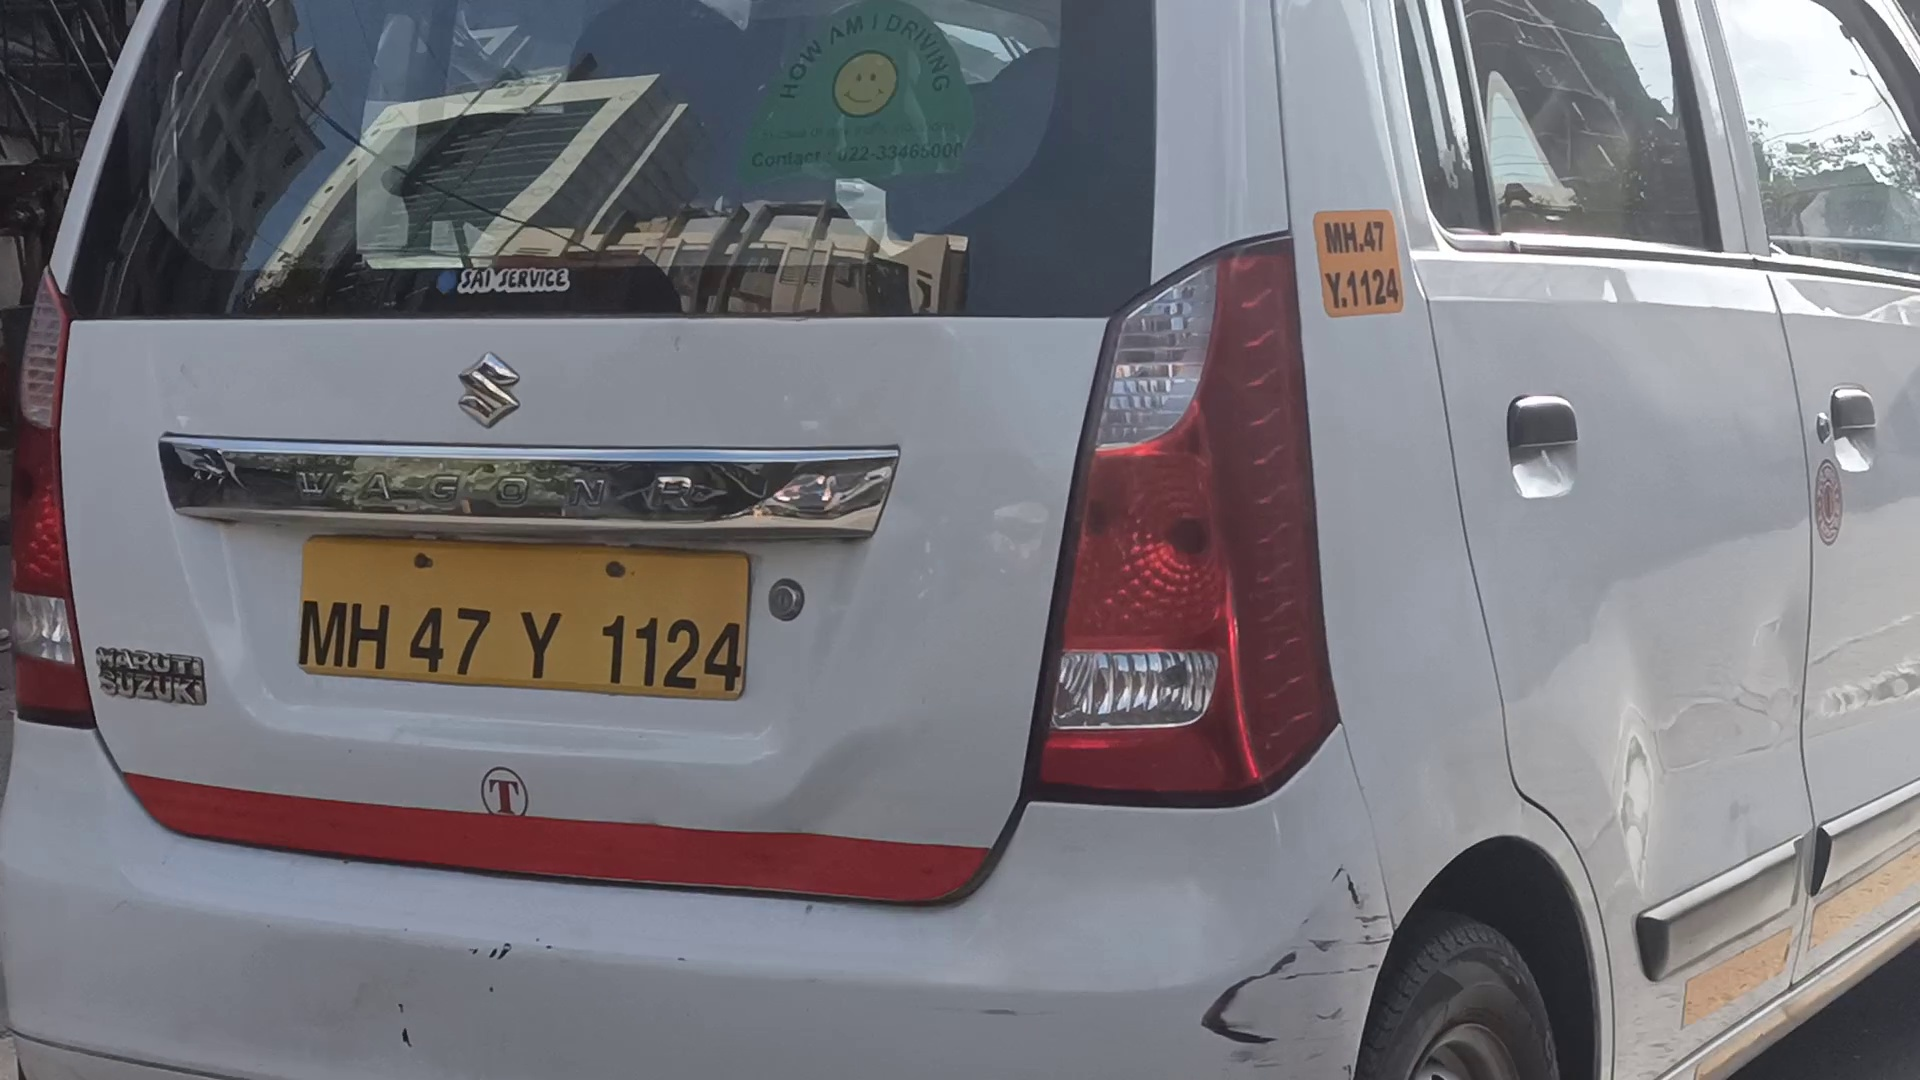MH47Y1124: (298, 535, 756, 699)
